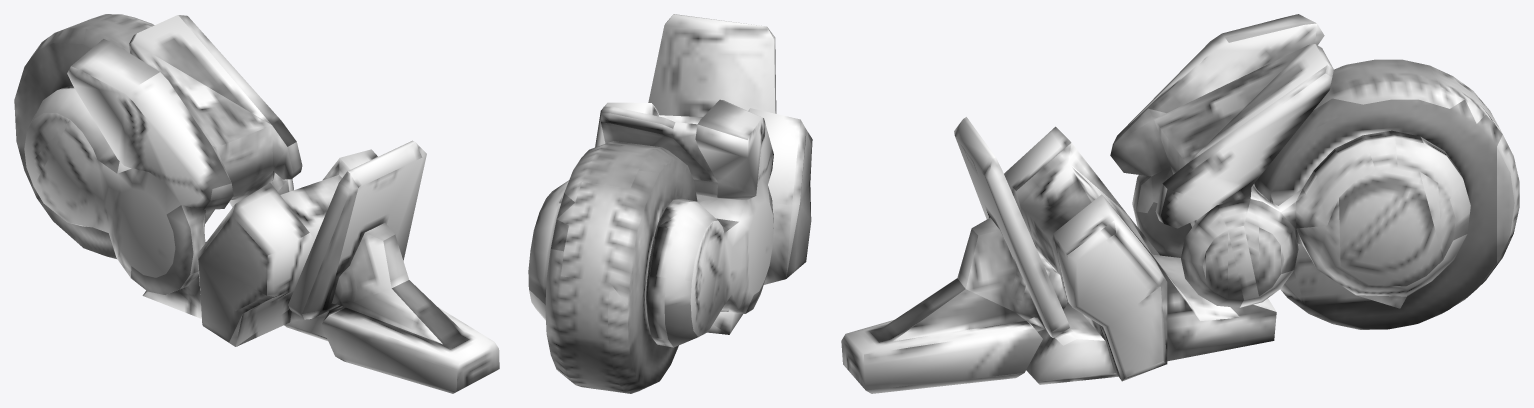
The model's file is l_foot.glb.
3 renders of one model, left to right at view 1: azimuth 30°, elevation 25°; view 2: azimuth 150°, elevation 25°; view 3: azimuth 270°, elevation 25°, orthographic. The views are drawn at different scales.
Parts seen in each view (by area): view 1: l_foot; view 2: l_foot; view 3: l_foot.
Part boxes in pixels (x1,y1,x2,y2): l_foot: [14, 14, 499, 393]; l_foot: [528, 14, 812, 393]; l_foot: [841, 14, 1519, 393].
Size of the model in its own units: 1.85 by 1.8 by 4.08.
Materials: 3 (3 with a texture image).
